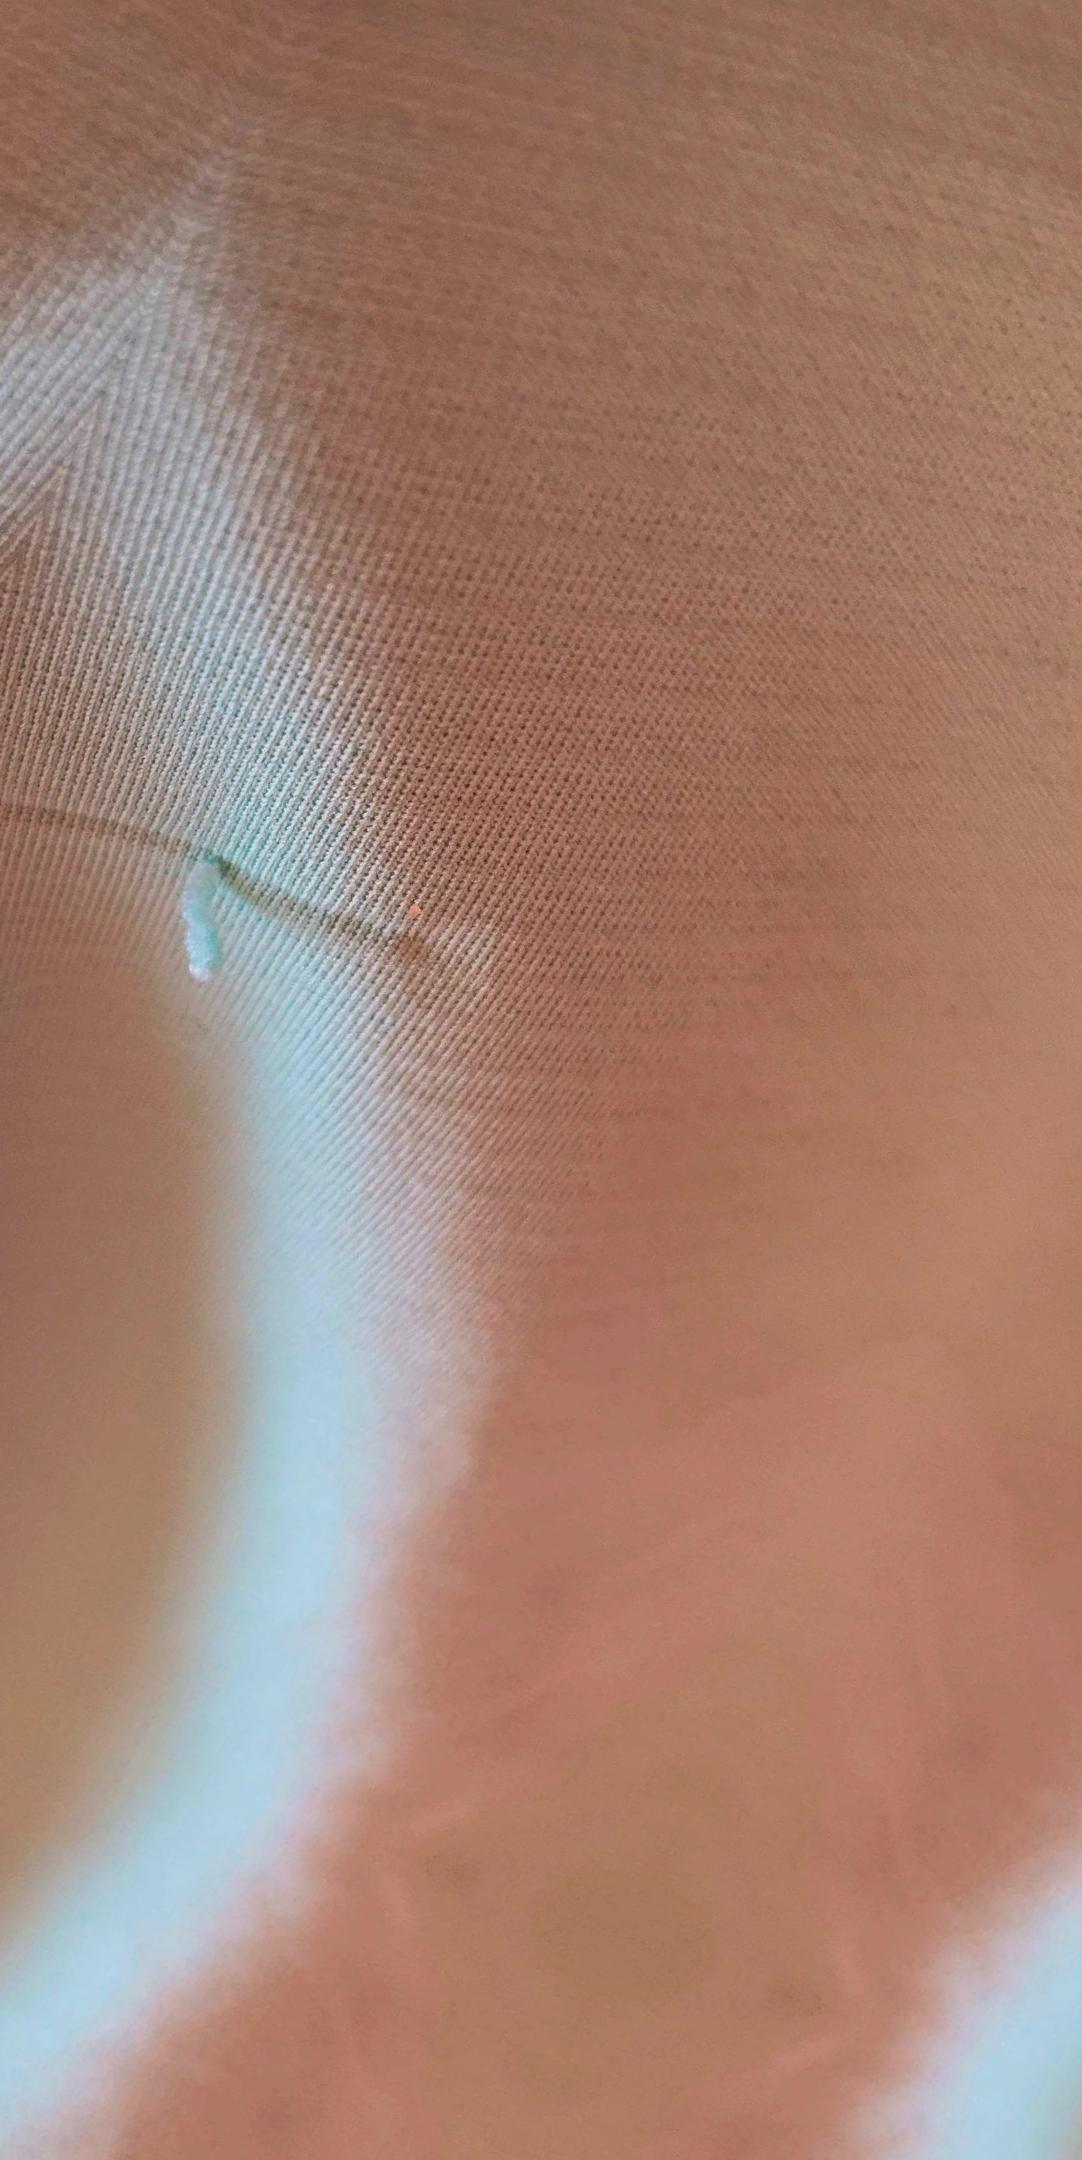snag: (138, 748, 341, 1098)
